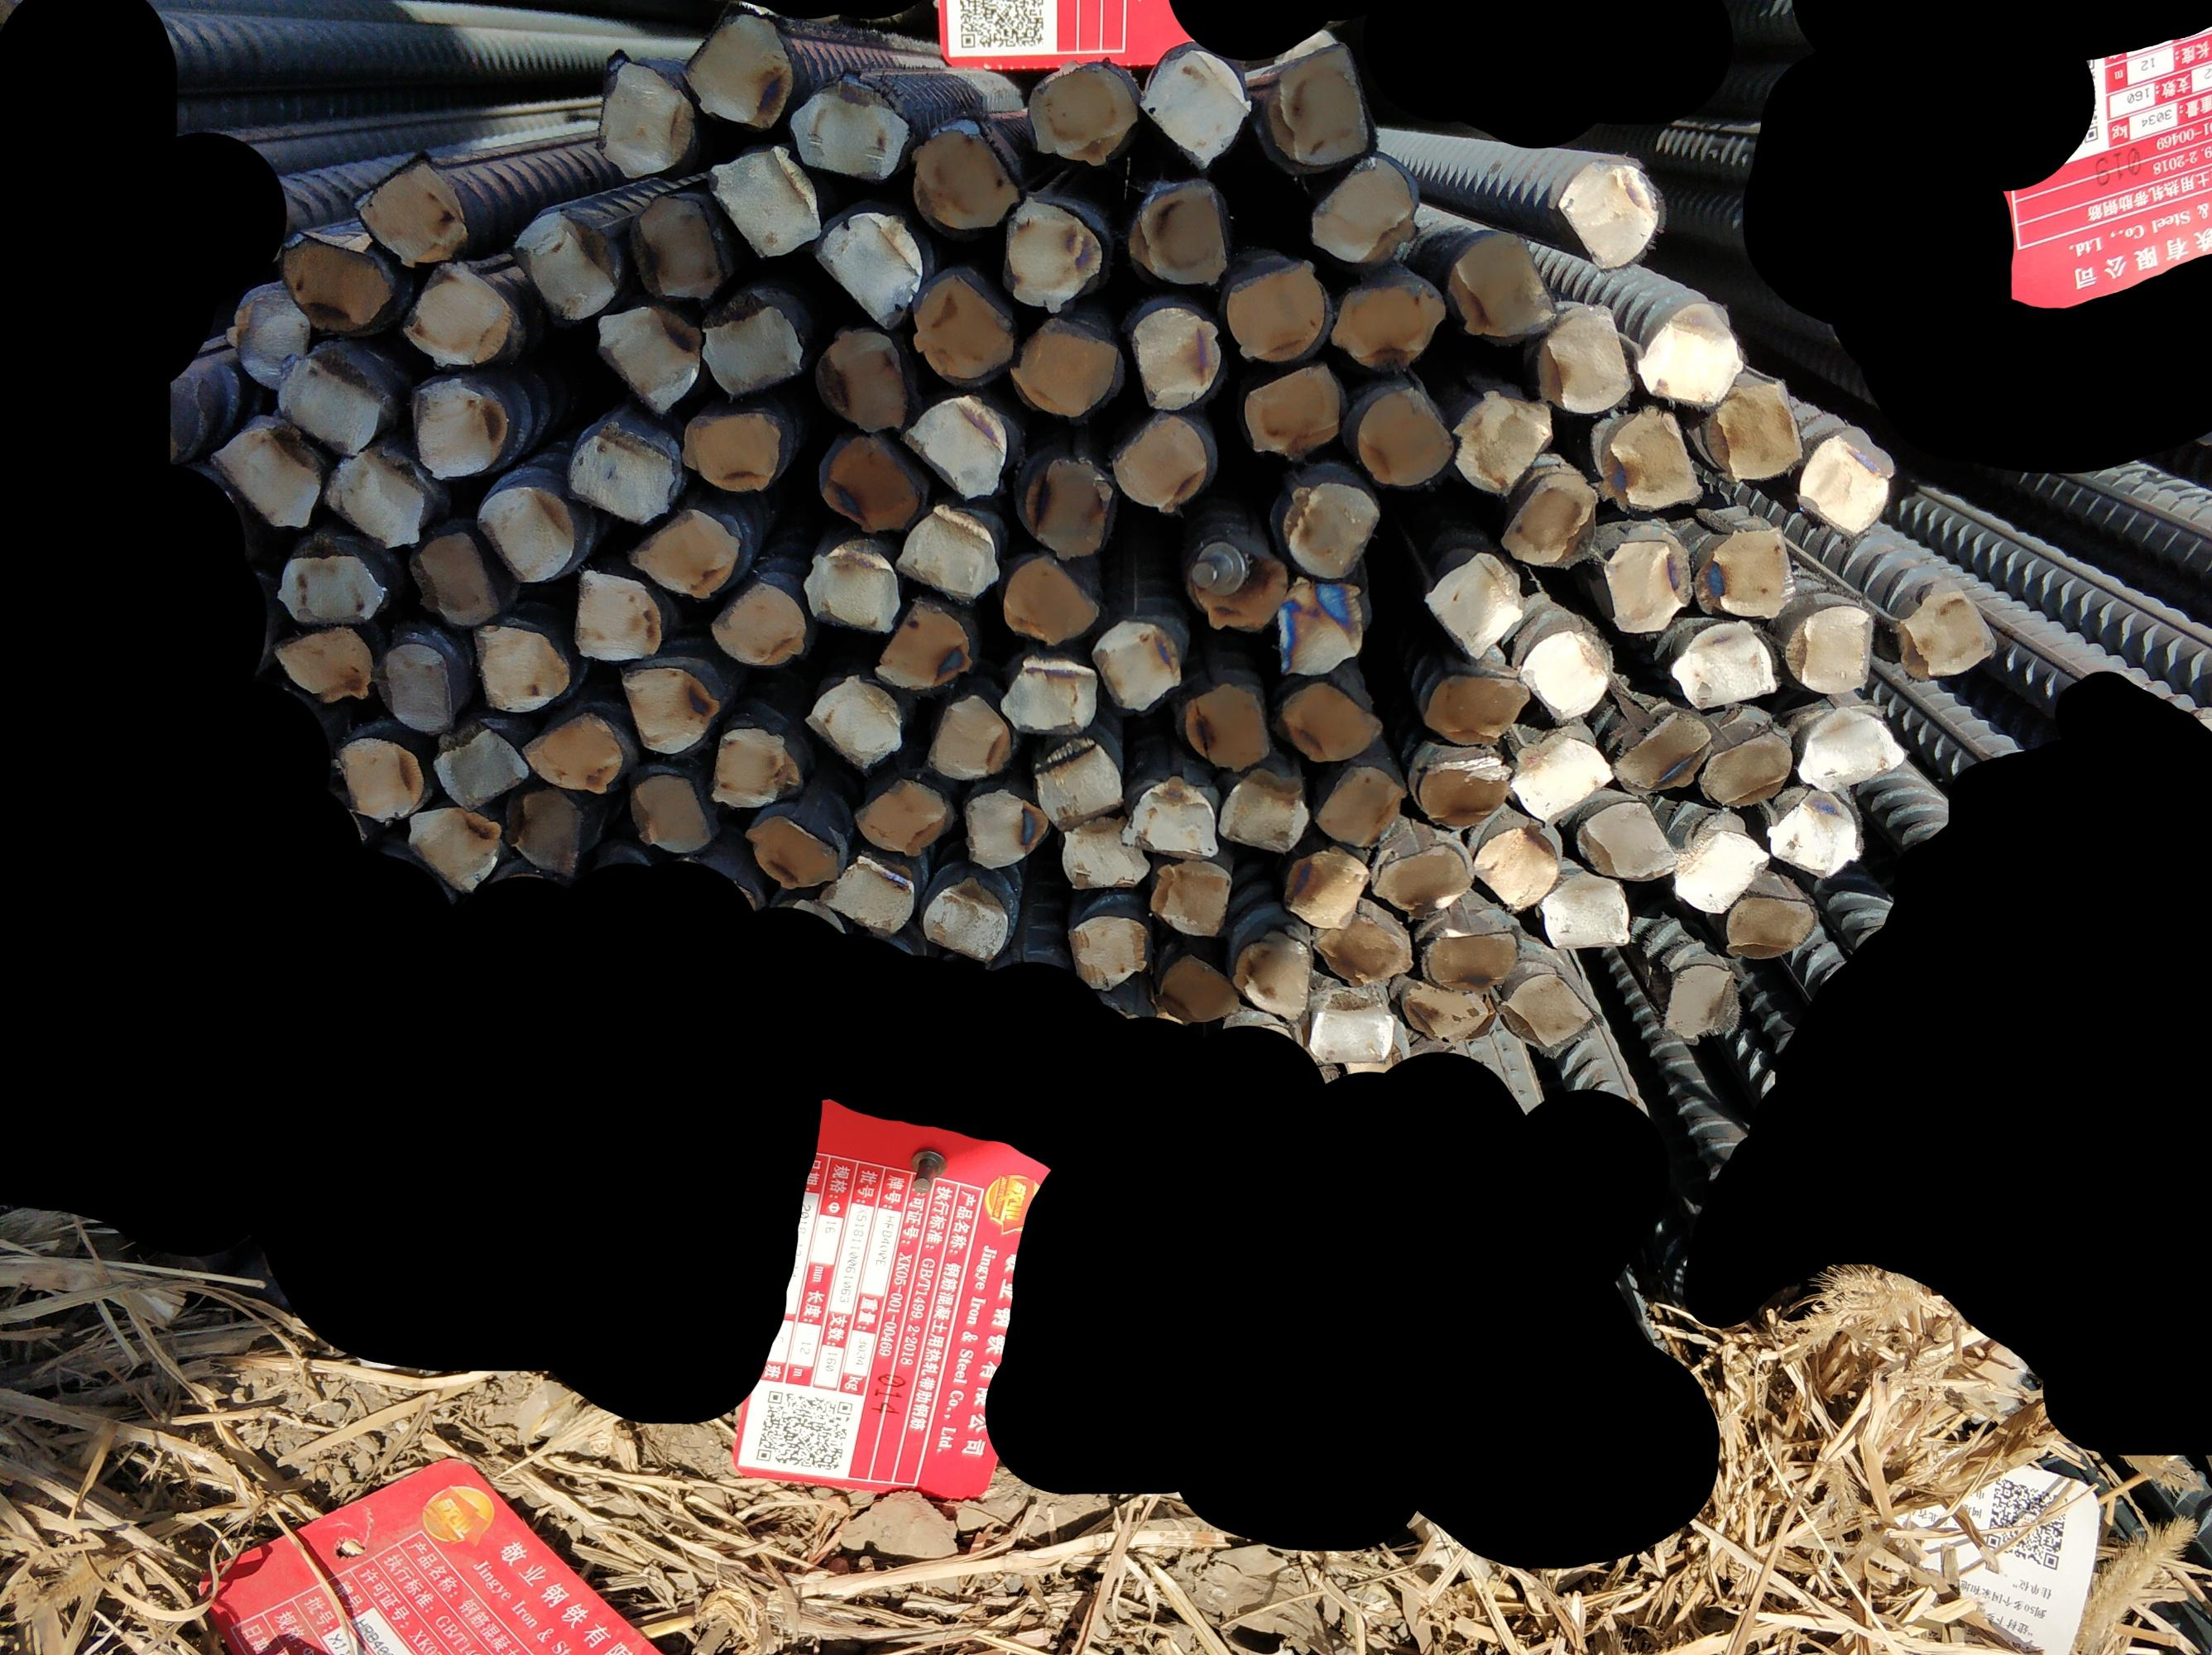bar: (671, 2, 794, 136), (202, 410, 328, 534), (697, 137, 824, 259), (806, 207, 926, 334), (782, 66, 911, 181), (273, 221, 396, 339), (1136, 43, 1249, 172), (349, 155, 471, 273), (905, 259, 1020, 384), (1263, 42, 1376, 169), (506, 207, 624, 327), (391, 257, 516, 370), (584, 296, 702, 414), (992, 196, 1109, 316), (1442, 377, 1555, 501), (1788, 415, 1901, 539), (1025, 56, 1143, 172), (1439, 229, 1560, 342), (587, 57, 699, 181), (905, 118, 1023, 233), (1588, 403, 1706, 518), (1546, 160, 1666, 273), (560, 410, 672, 528), (1220, 256, 1333, 372), (1416, 551, 1531, 664), (1632, 297, 1746, 410), (1301, 158, 1423, 264), (323, 440, 436, 553), (891, 499, 1003, 614), (269, 348, 386, 457), (1124, 177, 1234, 292), (810, 431, 926, 539), (1533, 299, 1637, 419), (626, 186, 728, 308), (1326, 276, 1451, 376), (403, 367, 511, 482), (624, 506, 745, 607), (808, 323, 914, 438), (1109, 403, 1211, 522), (1126, 296, 1227, 415), (1500, 727, 1619, 827), (1008, 313, 1121, 419), (905, 388, 1010, 502), (1887, 577, 2000, 681), (1757, 774, 1864, 881), (1513, 622, 1623, 728), (1267, 478, 1383, 575), (1595, 535, 1701, 641), (276, 535, 391, 633), (1793, 701, 1911, 794), (516, 704, 626, 805), (1234, 362, 1343, 462), (403, 518, 497, 635), (467, 612, 572, 716), (799, 669, 905, 772), (796, 532, 902, 635), (1015, 452, 1117, 558), (327, 720, 426, 829), (1705, 376, 1804, 485), (1272, 567, 1369, 678), (992, 553, 1105, 648), (1350, 382, 1454, 485), (697, 297, 803, 398), (1204, 763, 1312, 862), (1084, 615, 1192, 715), (700, 575, 810, 673), (1496, 961, 1607, 1057), (476, 482, 577, 586), (1609, 708, 1719, 803), (1274, 676, 1388, 767), (1185, 535, 1284, 640), (1498, 471, 1602, 570), (563, 567, 669, 664), (1463, 810, 1560, 916), (1307, 904, 1420, 994), (1418, 662, 1531, 753), (1121, 765, 1223, 864), (1691, 523, 1797, 619), (992, 648, 1102, 741), (867, 595, 978, 685), (704, 713, 806, 810), (400, 798, 504, 894), (917, 694, 1022, 789), (1025, 735, 1126, 833), (617, 662, 719, 758), (431, 721, 535, 815), (1668, 821, 1772, 914), (1661, 622, 1778, 706), (1567, 796, 1679, 881), (264, 628, 381, 708), (1308, 758, 1409, 850), (1533, 862, 1635, 953), (1182, 675, 1270, 779), (683, 405, 784, 495), (228, 285, 313, 391), (492, 777, 582, 876), (1413, 746, 1512, 836), (851, 772, 957, 855), (1783, 603, 1878, 695), (737, 808, 841, 892), (1701, 720, 1793, 814), (1275, 841, 1373, 930), (1056, 808, 1156, 895), (1369, 838, 1475, 918), (919, 874, 1015, 963), (374, 638, 459, 737), (1232, 923, 1314, 1026), (620, 772, 716, 857), (1149, 848, 1234, 944), (1390, 968, 1498, 1043), (1416, 920, 1519, 998), (824, 848, 914, 937), (957, 784, 1050, 871), (1149, 940, 1242, 1026), (1058, 909, 1154, 993), (1300, 993, 1399, 1069), (1663, 956, 1745, 1045), (1724, 890, 1819, 963)
